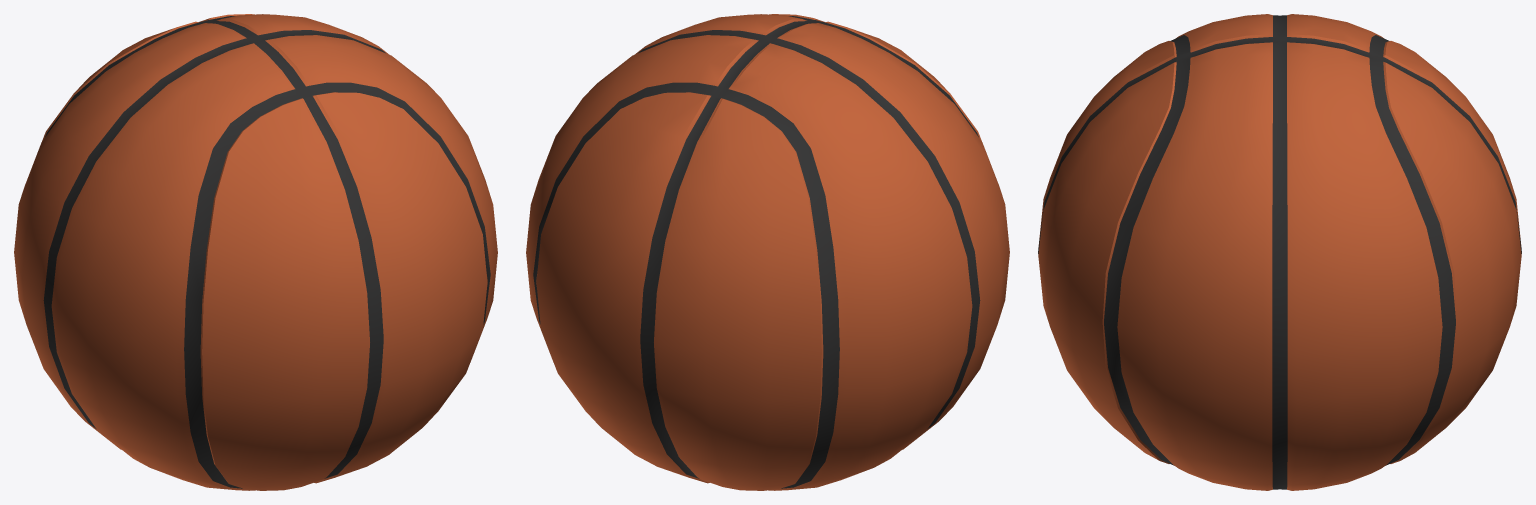
The model's file is Basketball.fbx.
3 renders of one model, left to right at view 1: azimuth 30°, elevation 25°; view 2: azimuth 150°, elevation 25°; view 3: azimuth 270°, elevation 25°, orthographic.
Parts seen in each view (by area): view 1: Bascketball; view 2: Bascketball; view 3: Bascketball.
Part boxes in pixels (x1,y1,x2,y2): Bascketball: (14,14,497,490); Bascketball: (526,14,1009,490); Bascketball: (1038,14,1521,490).
Size of the model in its own units: 27.31 by 26.83 by 27.5.
